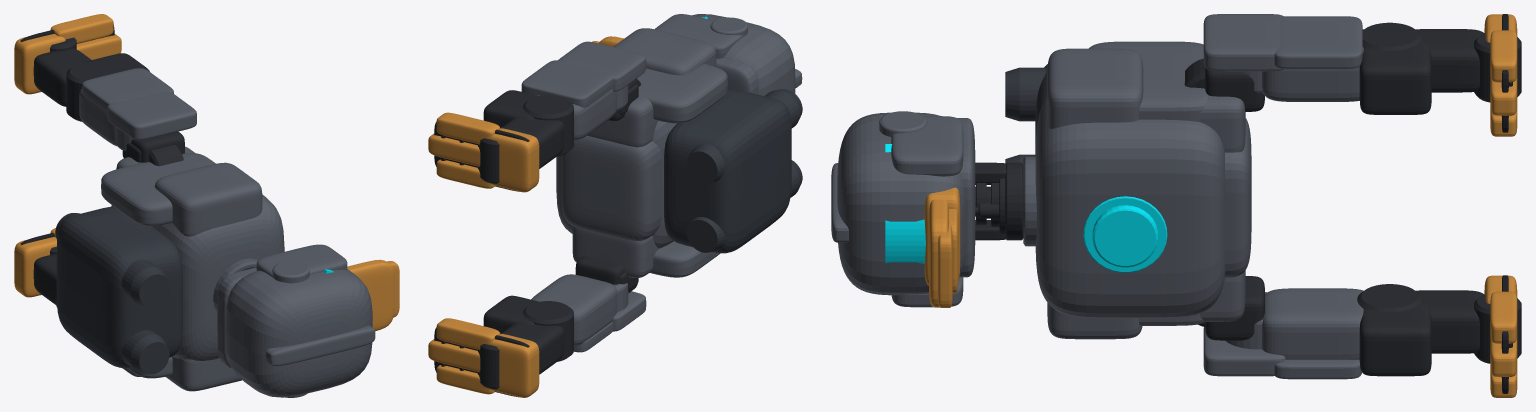
Rendered from cyberduck_v2_assembly.obj.
The picture shows the model from 3 angles, left to right: view 1: azimuth 30°, elevation 25°; view 2: azimuth 150°, elevation 25°; view 3: azimuth 270°, elevation 25°; orthographic projection. The views are drawn at different scales.
Visible parts, largest first — view 1: cyber_chest_01, cyber_helm_05, cyber_thruster_pack_03, cyber_thigh_left_09, cyber_shin_left_10, cyber_foot_left_11, cyber_beak_07, cyber_hip_left_08, cyber_foot_right_16, cyber_shin_right_15; view 2: cyber_chest_01, cyber_thruster_pack_03, cyber_thigh_left_09, cyber_helm_05, cyber_foot_left_11, cyber_foot_right_16, cyber_shin_left_10, cyber_shin_right_15, cyber_thigh_right_14, cyber_hip_right_13, cyber_sole_right_17, cyber_sole_left_12 (+1 smaller); view 3: cyber_chest_01, cyber_helm_05, cyber_thigh_left_09, cyber_thigh_right_14, cyber_shin_right_15, cyber_shin_left_10, cyber_reactor_02, cyber_beak_07, cyber_neck_04, cyber_foot_right_16, cyber_foot_left_11, cyber_thruster_pack_03 (+3 smaller).
Boxes of the visible parts, x1=… form: cyber_chest_01: x1=101, y1=146, x2=284, y2=391; cyber_helm_05: x1=217, y1=244, x2=375, y2=397; cyber_thruster_pack_03: x1=55, y1=206, x2=182, y2=374; cyber_thigh_left_09: x1=79, y1=68, x2=196, y2=151; cyber_shin_left_10: x1=33, y1=37, x2=149, y2=121; cyber_foot_left_11: x1=14, y1=14, x2=121, y2=94; cyber_beak_07: x1=347, y1=259, x2=399, y2=330; cyber_hip_left_08: x1=122, y1=131, x2=184, y2=166; cyber_foot_right_16: x1=14, y1=228, x2=56, y2=297; cyber_shin_right_15: x1=33, y1=246, x2=56, y2=304; cyber_chest_01: x1=556, y1=28, x2=727, y2=277; cyber_thruster_pack_03: x1=664, y1=89, x2=802, y2=253; cyber_thigh_left_09: x1=521, y1=41, x2=646, y2=140; cyber_helm_05: x1=655, y1=14, x2=802, y2=95; cyber_foot_left_11: x1=428, y1=112, x2=539, y2=192; cyber_foot_right_16: x1=428, y1=318, x2=539, y2=397; cyber_shin_left_10: x1=478, y1=90, x2=573, y2=183; cyber_shin_right_15: x1=478, y1=295, x2=573, y2=389; cyber_thigh_right_14: x1=531, y1=274, x2=646, y2=352; cyber_hip_right_13: x1=575, y1=256, x2=638, y2=292; cyber_sole_right_17: x1=434, y1=327, x2=529, y2=397; cyber_sole_left_12: x1=434, y1=122, x2=529, y2=191; cyber_chest_01: x1=1023, y1=41, x2=1251, y2=339; cyber_helm_05: x1=831, y1=111, x2=975, y2=307; cyber_thigh_left_09: x1=1203, y1=14, x2=1363, y2=101; cyber_thigh_right_14: x1=1203, y1=288, x2=1363, y2=379; cyber_shin_right_15: x1=1357, y1=284, x2=1521, y2=376; cyber_shin_left_10: x1=1359, y1=22, x2=1521, y2=114; cyber_reactor_02: x1=1083, y1=196, x2=1167, y2=272; cyber_beak_07: x1=924, y1=187, x2=960, y2=307; cyber_neck_04: x1=975, y1=162, x2=1023, y2=240; cyber_foot_right_16: x1=1484, y1=275, x2=1517, y2=397; cyber_foot_left_11: x1=1484, y1=14, x2=1517, y2=136; cyber_thruster_pack_03: x1=1005, y1=64, x2=1047, y2=164.
Size of the model in its own units: 0.121 by 0.124 by 0.23.
